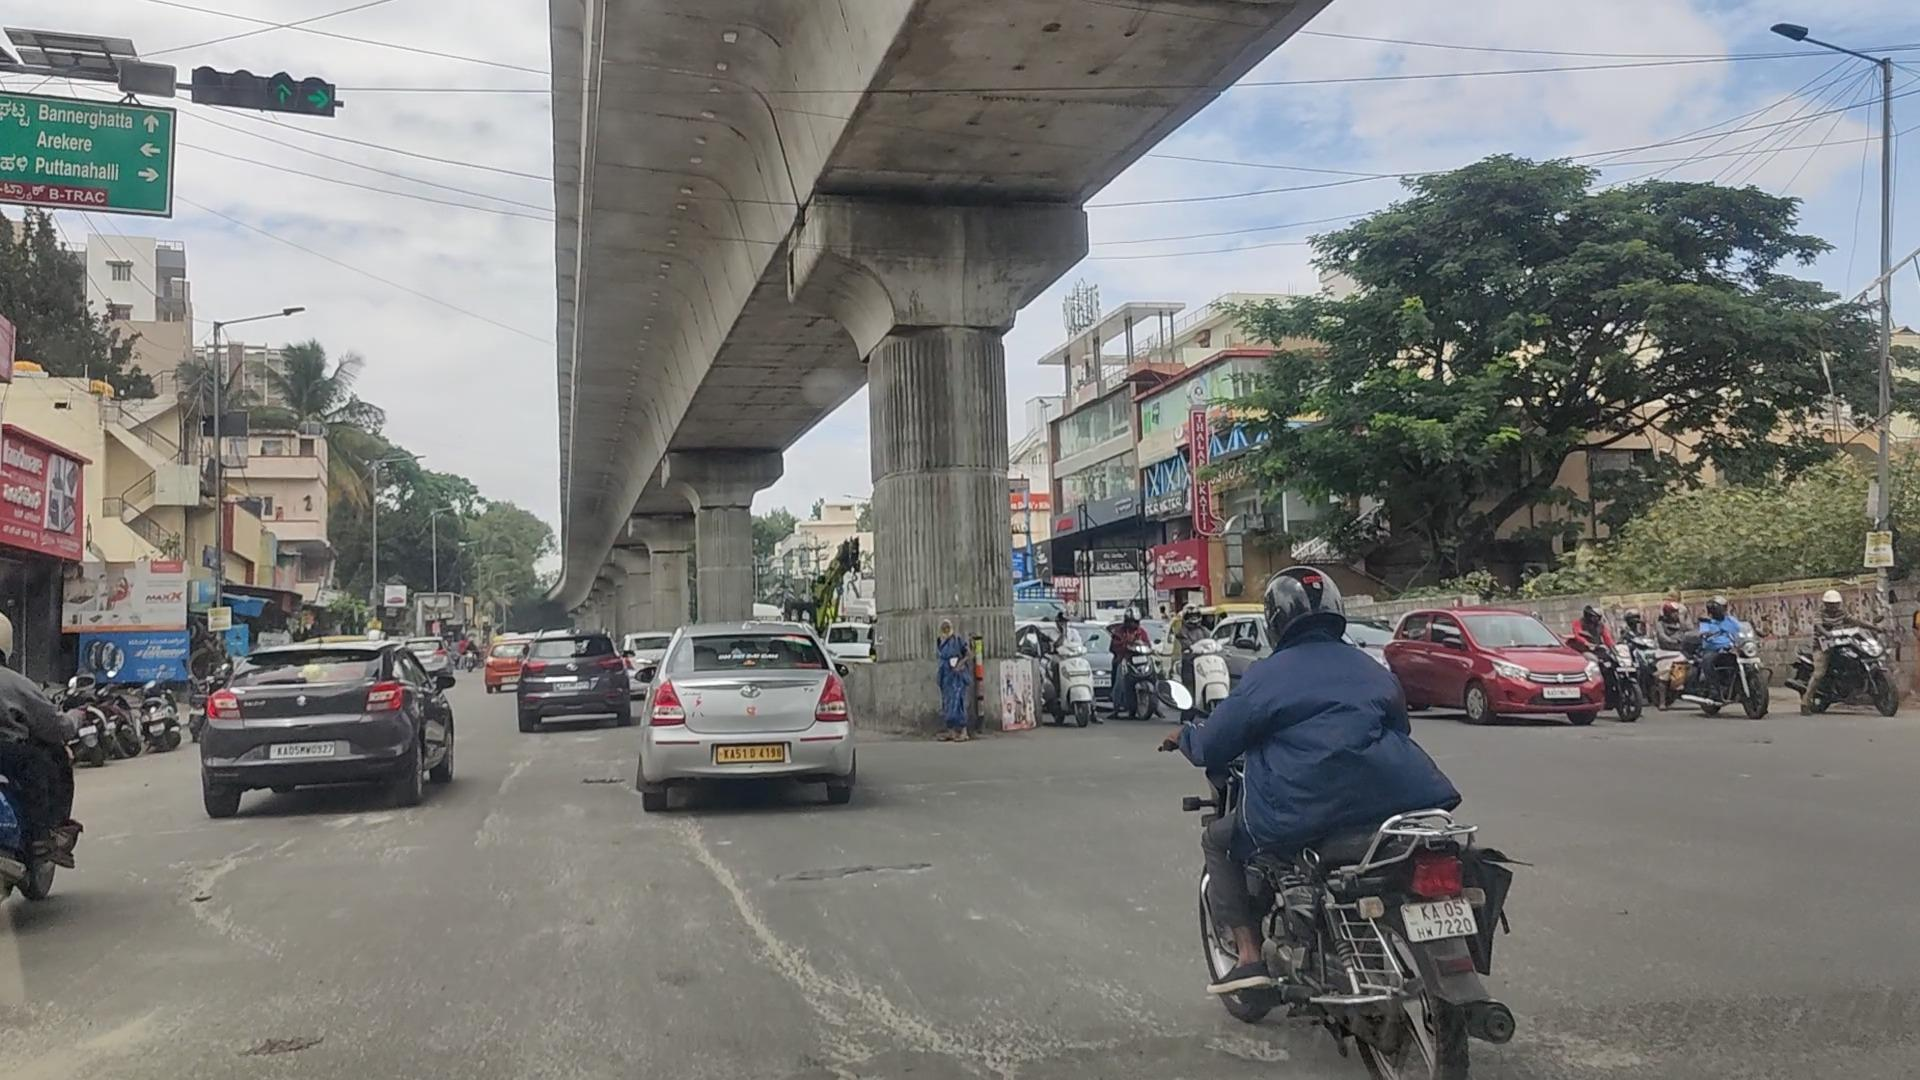LMV: (1183, 538, 1514, 1079), (196, 613, 452, 793), (644, 620, 857, 819)
RoadDamages: (799, 949, 1052, 1080), (179, 825, 342, 938), (791, 836, 919, 899), (473, 812, 504, 847)
